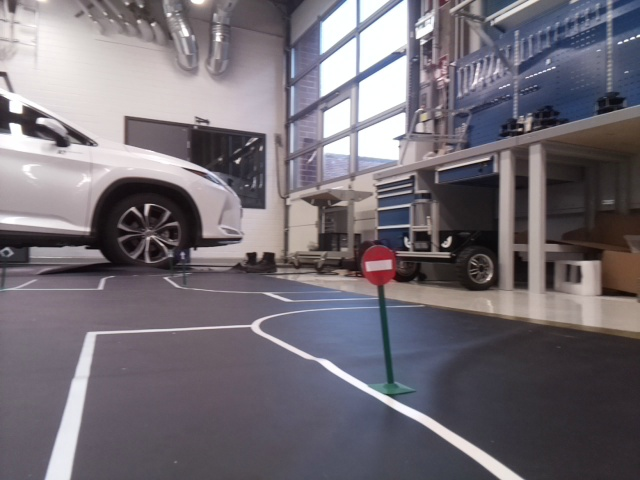NoEntry: (360, 244, 395, 284)
